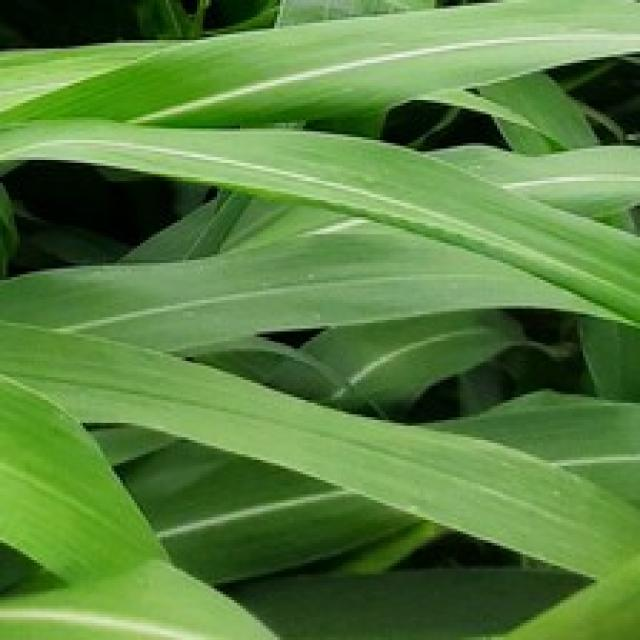Corn: (0, 0, 637, 637), (0, 109, 637, 357), (0, 0, 637, 134)
